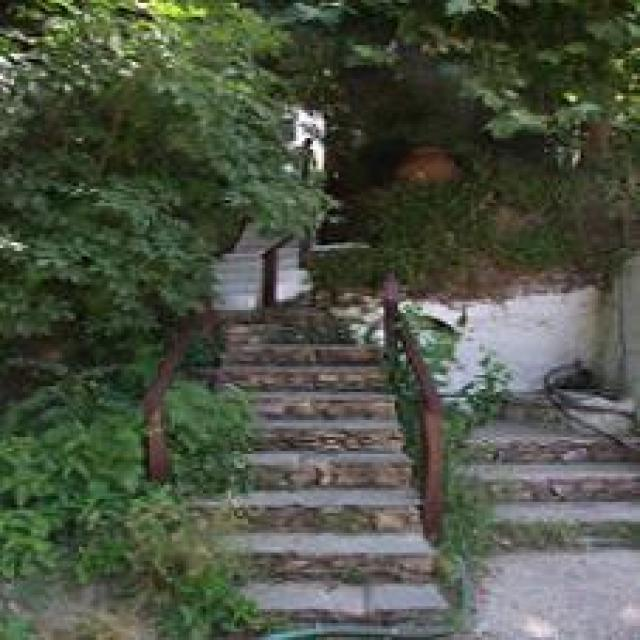upstair: (170, 359, 461, 627)
